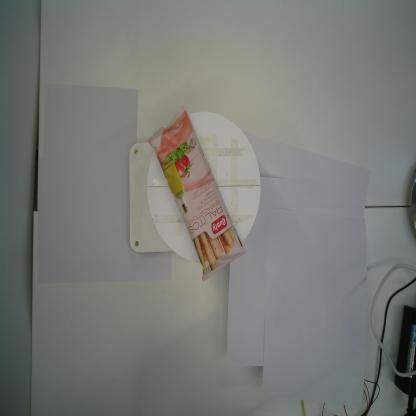Dessert: (147, 105, 246, 282)
